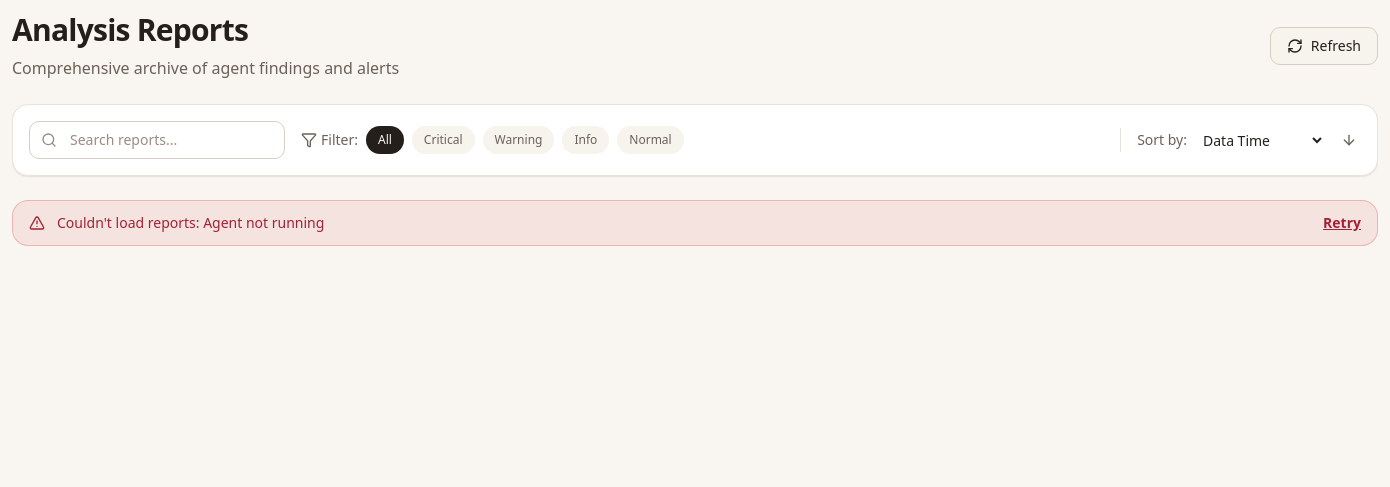
ReportsView › shows the server error and recovers on Retry when API returns success: false
The image size is (1390, 487).
Expected: the message shows "Agent not running", [57,213,324,232]
Click the button "Retry" at (1342, 223), box [1323,213,1361,233]
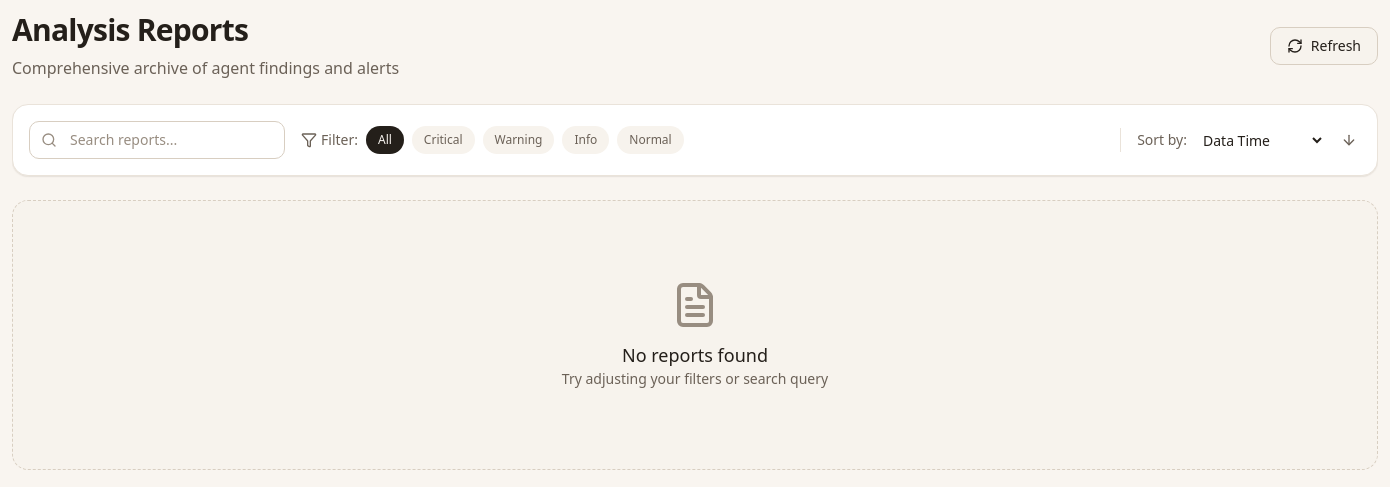
Expected: the message "Couldn't load reports: Agent not running Retry" is gone
Expected: the heading "No reports found" is shown, [622,343,768,367]
